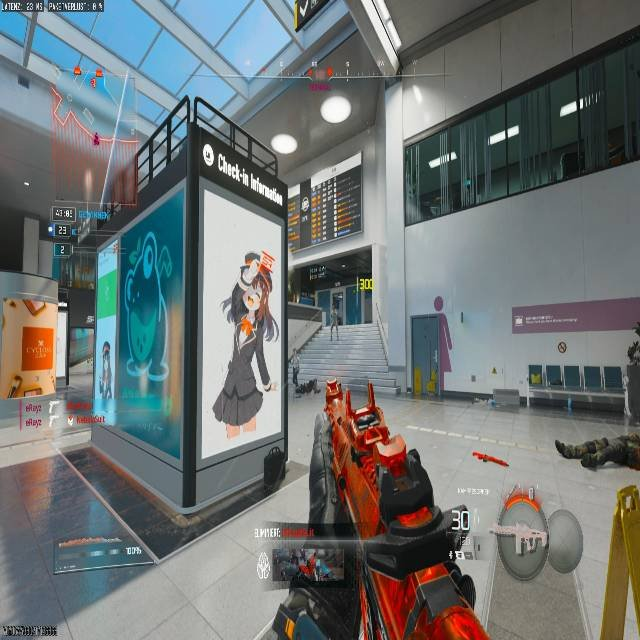head: (240, 249, 267, 276)
player: (222, 249, 276, 390)
